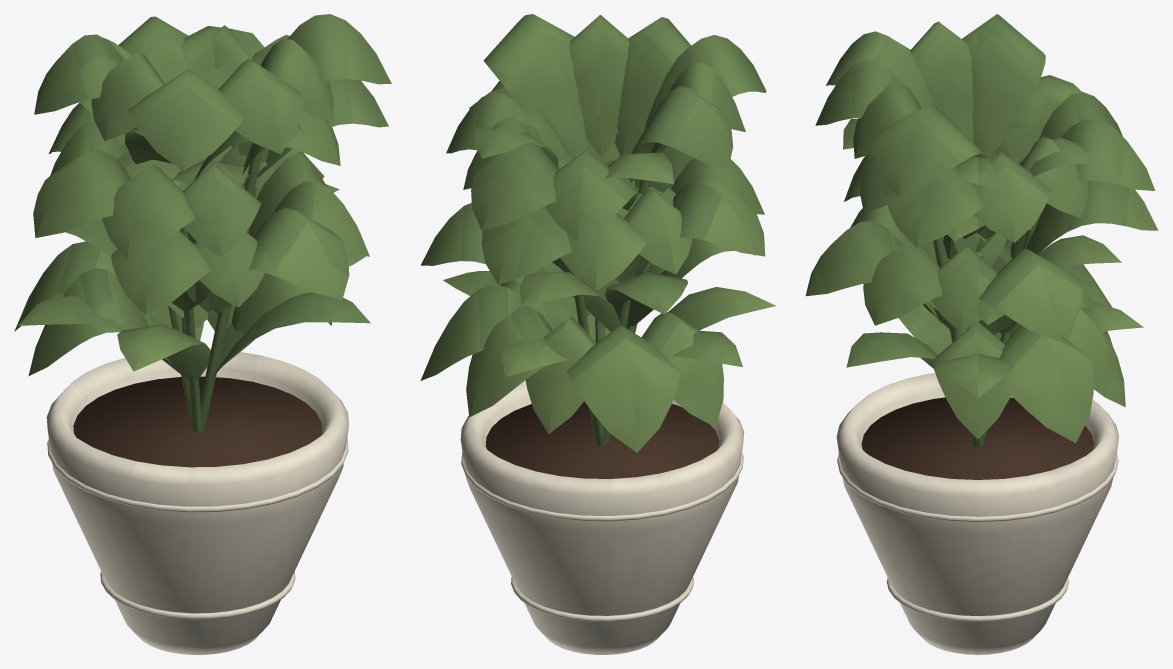
The model's file is WC_CAFE_Planter_Table_A.glb.
3 views of the same model, side by side, from view 1: azimuth 30°, elevation 25°; view 2: azimuth 150°, elevation 25°; view 3: azimuth 270°, elevation 25° (orthographic). The views are drawn at different scales.
Visible parts, largest first — view 1: WC_CAFE_Planter_Table_A_PolishedRenderMesh; view 2: WC_CAFE_Planter_Table_A_PolishedRenderMesh; view 3: WC_CAFE_Planter_Table_A_PolishedRenderMesh.
Boxes of the visible parts, x1=… form: WC_CAFE_Planter_Table_A_PolishedRenderMesh: x1=14, y1=14, x2=391, y2=654; WC_CAFE_Planter_Table_A_PolishedRenderMesh: x1=420, y1=14, x2=775, y2=654; WC_CAFE_Planter_Table_A_PolishedRenderMesh: x1=805, y1=14, x2=1158, y2=654.
Bounding box in the file's own units: 0.294 × 0.5066 × 0.2847.
Materials: 6 (5 with a texture image).
